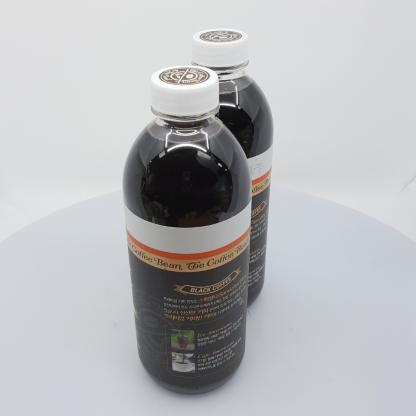--------: (122, 65, 252, 394)
